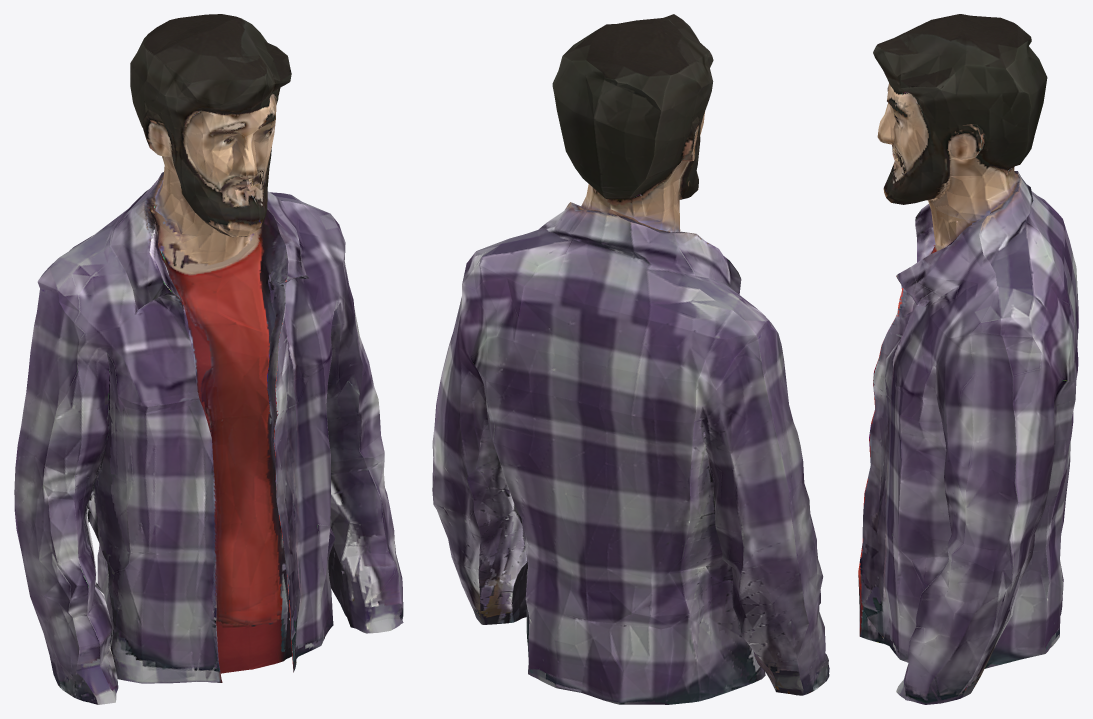
The model's file is _render.glb.
3 renders of one model, left to right at view 1: azimuth 30°, elevation 25°; view 2: azimuth 150°, elevation 25°; view 3: azimuth 270°, elevation 25°, orthographic. The views are drawn at different scales.
Parts seen in each view (by area): view 1: geometry_0; view 2: geometry_0; view 3: geometry_0.
Boxes of the visible parts, x1,y1,x2,y2 form: geometry_0: (14,14,403,704); geometry_0: (432,14,829,704); geometry_0: (858,14,1078,704).
Size of the model in its own units: 0.5031 by 0.8284 by 0.2748.
1 material, 1 textured.
